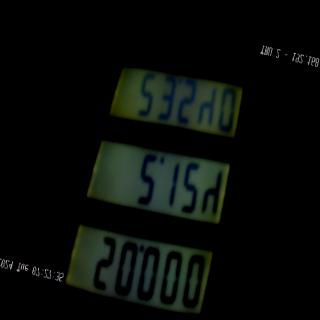screen: (57, 19, 268, 320)
